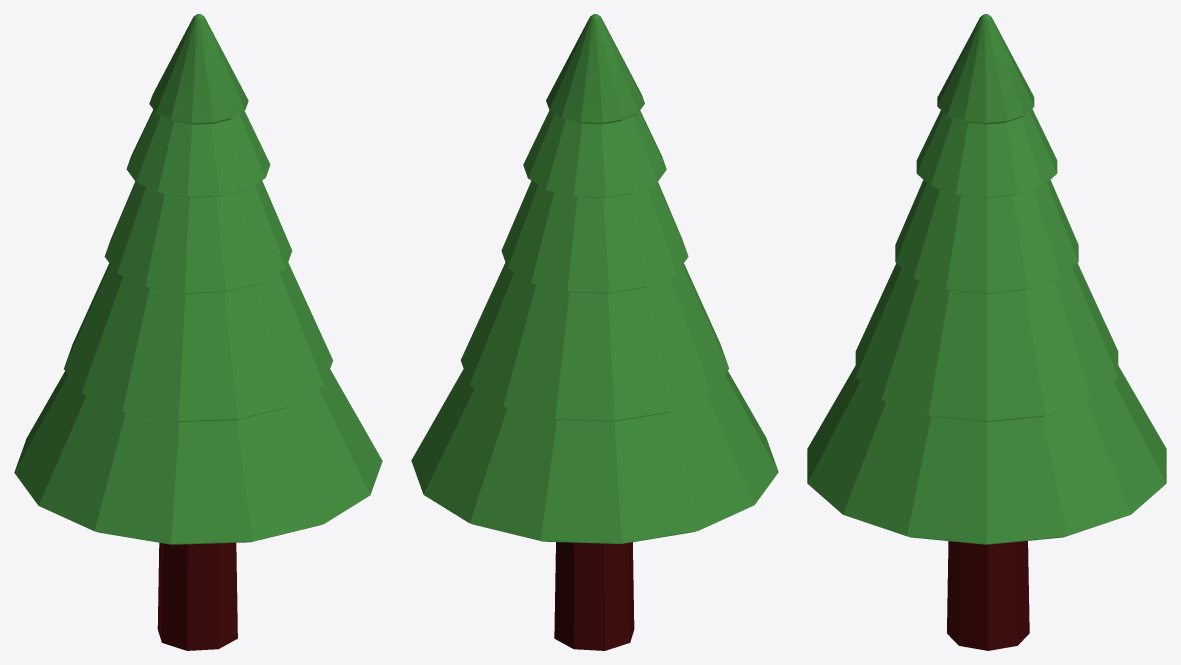
Rendered from Elka.fbx.
3 renders of one model, left to right at view 1: azimuth 30°, elevation 25°; view 2: azimuth 150°, elevation 25°; view 3: azimuth 270°, elevation 25°, orthographic.
Parts seen in each view (by area): view 1: Elka_1; view 2: Elka_1; view 3: Elka_1.
Part boxes in pixels (x1=…): Elka_1: x1=14, y1=14, x2=382, y2=650; Elka_1: x1=411, y1=14, x2=778, y2=650; Elka_1: x1=807, y1=14, x2=1166, y2=650.
Bounding box in the file's own units: 174 × 323 × 170.
